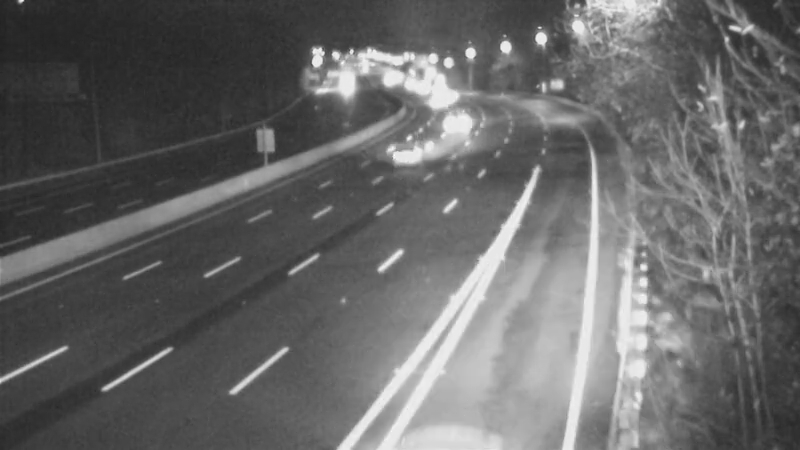vehicle: (368, 113, 448, 193), (414, 76, 464, 126), (438, 96, 488, 146)
